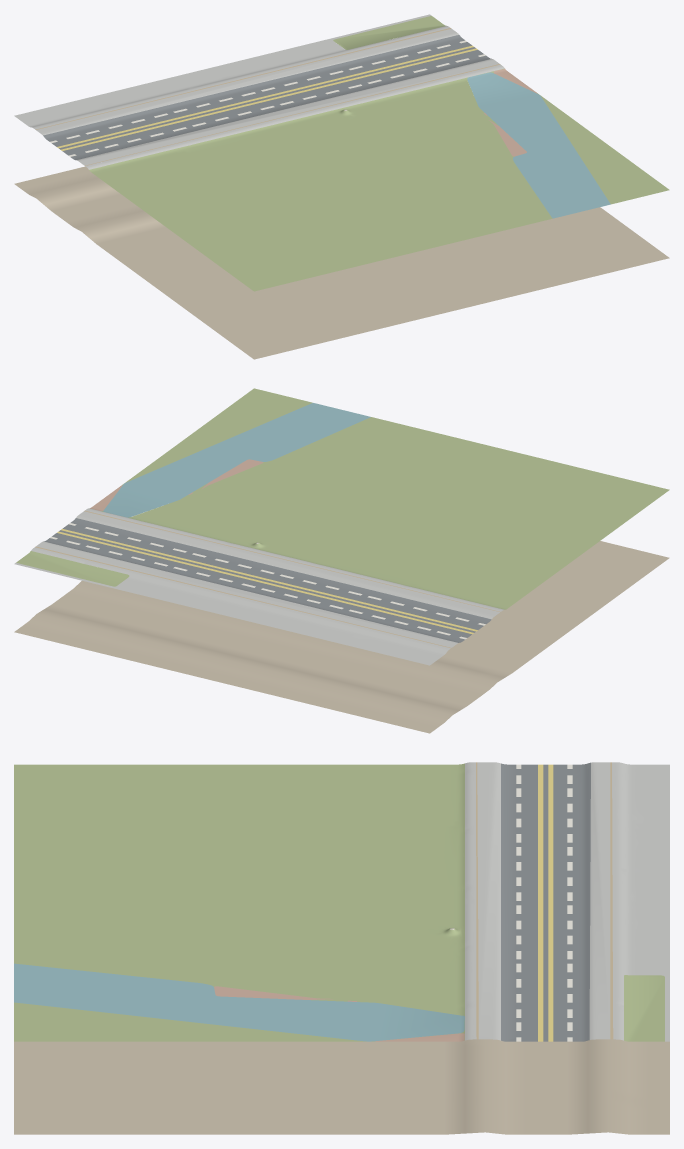
3 renders of one model, top to bottom at view 1: azimuth 30°, elevation 25°; view 2: azimuth 150°, elevation 25°; view 3: azimuth 270°, elevation 25°, orthographic. The views are drawn at different scales.
Visible parts, largest first — view 1: s_-1_4__grass, s_-1_4__soil, s_-1_4__stone_paving, s_-1_4__asphalt, s_-1_4__blue_paving, s_-1_4__yellow_marking, s_-1_4__white_marking, s_-1_4__timber_deck, s_-1_4__brick_paving; view 2: s_-1_4__grass, s_-1_4__soil, s_-1_4__stone_paving, s_-1_4__asphalt, s_-1_4__blue_paving, s_-1_4__yellow_marking, s_-1_4__white_marking, s_-1_4__timber_deck, s_-1_4__brick_paving; view 3: s_-1_4__grass, s_-1_4__soil, s_-1_4__stone_paving, s_-1_4__asphalt, s_-1_4__blue_paving, s_-1_4__yellow_marking, s_-1_4__white_marking, s_-1_4__timber_deck, s_-1_4__brick_paving.
Part boxes in pixels (left/top/right/bottom): s_-1_4__grass: left=89, top=15, right=669, bottom=291; s_-1_4__soil: left=14, top=166, right=669, bottom=359; s_-1_4__stone_paving: left=14, top=14, right=504, bottom=169; s_-1_4__asphalt: left=43, top=35, right=491, bottom=160; s_-1_4__blue_paving: left=467, top=72, right=610, bottom=218; s_-1_4__yellow_marking: left=57, top=45, right=477, bottom=150; s_-1_4__white_marking: left=50, top=40, right=485, bottom=156; s_-1_4__timber_deck: left=35, top=28, right=500, bottom=165; s_-1_4__brick_paving: left=484, top=68, right=537, bottom=156; s_-1_4__grass: left=16, top=388, right=669, bottom=609; s_-1_4__soil: left=14, top=541, right=669, bottom=733; s_-1_4__stone_paving: left=14, top=508, right=504, bottom=665; s_-1_4__asphalt: left=44, top=518, right=491, bottom=642; s_-1_4__blue_paving: left=103, top=403, right=370, bottom=517; s_-1_4__yellow_marking: left=57, top=529, right=477, bottom=634; s_-1_4__white_marking: left=50, top=523, right=485, bottom=639; s_-1_4__timber_deck: left=35, top=510, right=500, bottom=648; s_-1_4__brick_paving: left=90, top=459, right=263, bottom=510; s_-1_4__grass: left=14, top=763, right=664, bottom=1041; s_-1_4__soil: left=14, top=1039, right=669, bottom=1134; s_-1_4__stone_paving: left=465, top=762, right=669, bottom=1041; s_-1_4__asphalt: left=501, top=762, right=590, bottom=1041; s_-1_4__blue_paving: left=14, top=963, right=464, bottom=1041; s_-1_4__yellow_marking: left=538, top=764, right=553, bottom=1041; s_-1_4__white_marking: left=516, top=764, right=572, bottom=1041; s_-1_4__timber_deck: left=476, top=762, right=613, bottom=1039; s_-1_4__brick_paving: left=214, top=986, right=464, bottom=1041.
Bounding box in the file's own units: 128 × 20.89 × 128.
